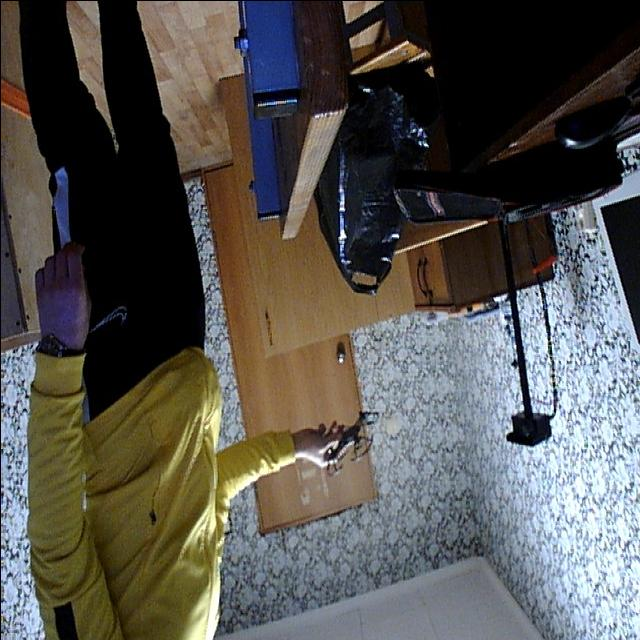drone: (310, 404, 380, 476)
